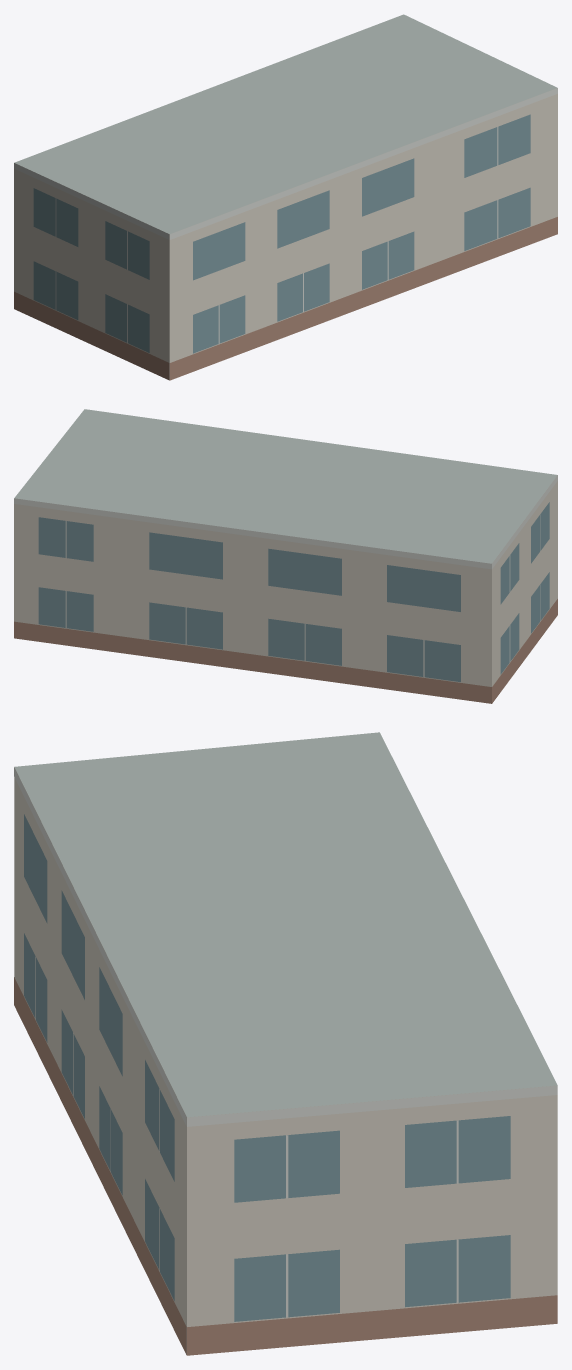
File: survey-upis-32712172.glb
3 views of the same model, one above another, from view 1: azimuth 30°, elevation 25°; view 2: azimuth 150°, elevation 25°; view 3: azimuth 270°, elevation 25° (orthographic). The views are drawn at different scales.
Parts seen in each view (by area): view 1: survey-upis-32712172.tmp; view 2: survey-upis-32712172.tmp; view 3: survey-upis-32712172.tmp.
Boxes of the visible parts, box(x1,y1,x2,y2) form: survey-upis-32712172.tmp: box(14, 14, 557, 380); survey-upis-32712172.tmp: box(14, 409, 557, 703); survey-upis-32712172.tmp: box(14, 732, 557, 1355).
Bounding box in the file's own units: 21.16 × 6.1 × 12.62.
